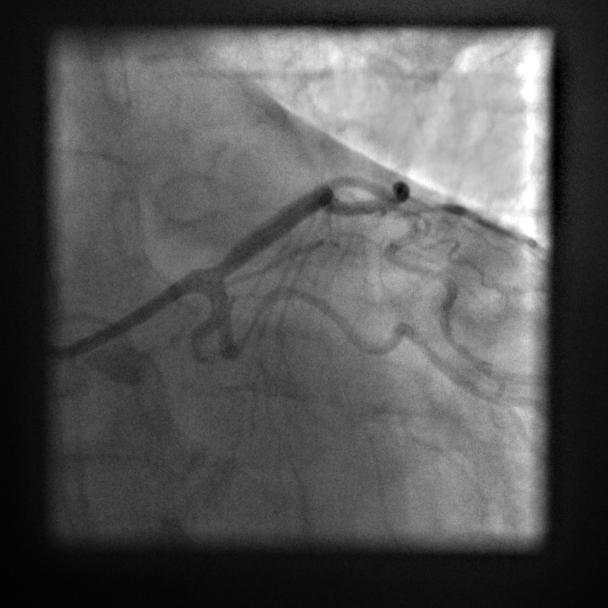Stenosis: (192, 250, 241, 276)
